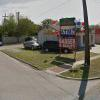Car: (19, 34, 40, 56)
